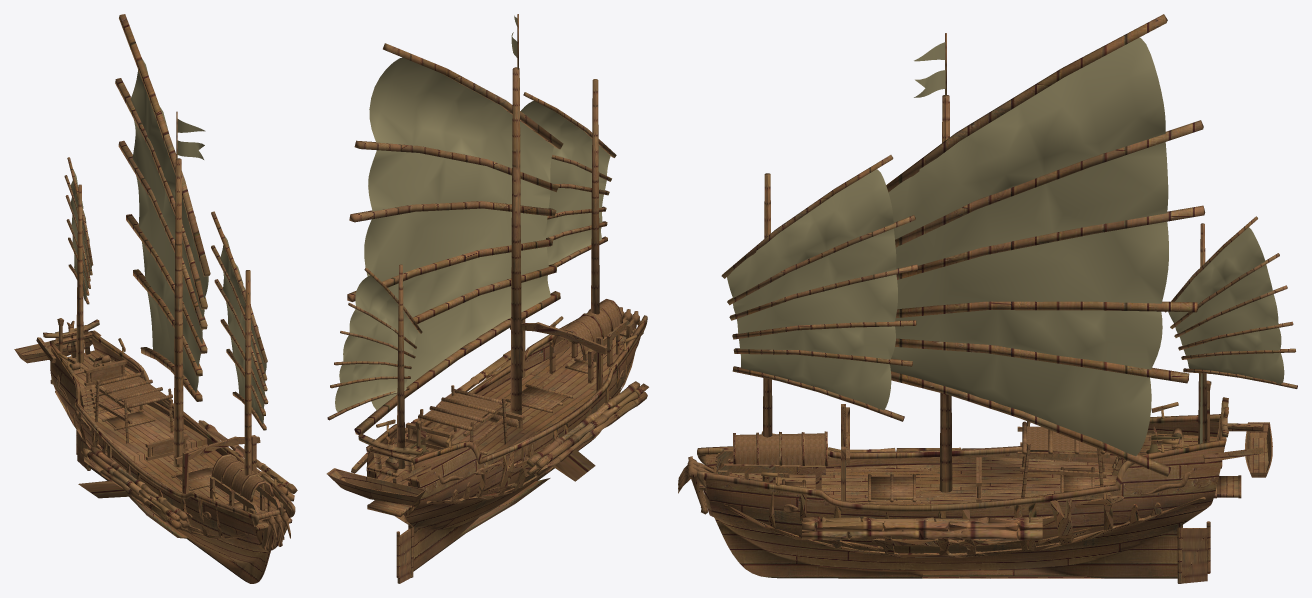
Rendered from Medieval Boat.fbx.
3 views of the same model, side by side, from view 1: azimuth 30°, elevation 25°; view 2: azimuth 150°, elevation 25°; view 3: azimuth 270°, elevation 25° (orthographic). The views are drawn at different scales.
Visible parts, largest first — view 1: MED-BOAT; view 2: MED-BOAT; view 3: MED-BOAT.
Boxes of the visible parts, left/top/right/bottom form: MED-BOAT: left=14, top=14, right=297, bottom=583; MED-BOAT: left=326, top=14, right=648, bottom=583; MED-BOAT: left=678, top=14, right=1297, bottom=583.
Size of the model in its own units: 430 by 1336 by 1283.
